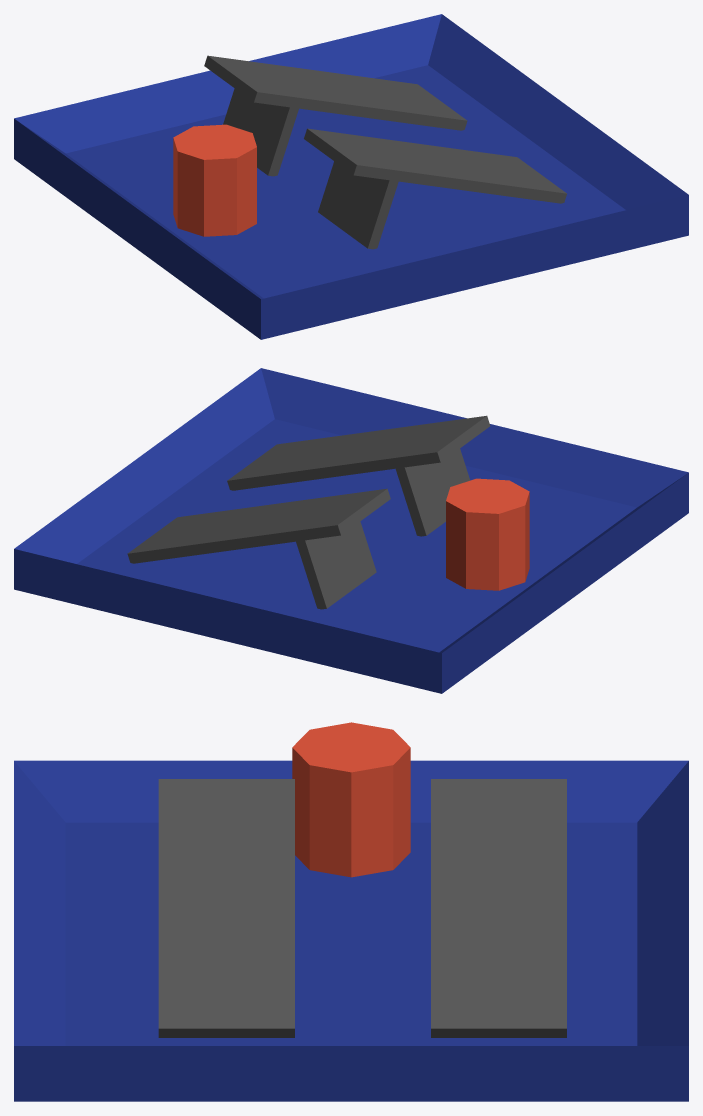
Rendered from roof2 (2).fbx.
3 renders of one model, top to bottom at view 1: azimuth 30°, elevation 25°; view 2: azimuth 150°, elevation 25°; view 3: azimuth 270°, elevation 25°, orthographic. The views are drawn at different scales.
Visible parts, largest first — view 1: Cube.001, Cube.002, Cylinder; view 2: Cube.001, Cube.002, Cylinder; view 3: Cube.001, Cube.002, Cylinder.
Part boxes in pixels (left/top/right/bottom): Cube.001: left=14, top=14, right=688, bottom=339; Cube.002: left=204, top=55, right=566, bottom=249; Cylinder: left=173, top=124, right=256, bottom=236; Cube.001: left=14, top=368, right=688, bottom=693; Cube.002: left=127, top=415, right=490, bottom=609; Cylinder: left=446, top=478, right=529, bottom=590; Cube.001: left=14, top=760, right=688, bottom=1101; Cube.002: left=158, top=779, right=566, bottom=1037; Cylinder: left=292, top=722, right=410, bottom=877.
Bounding box in the file's own units: 200 × 44.6 × 200.
